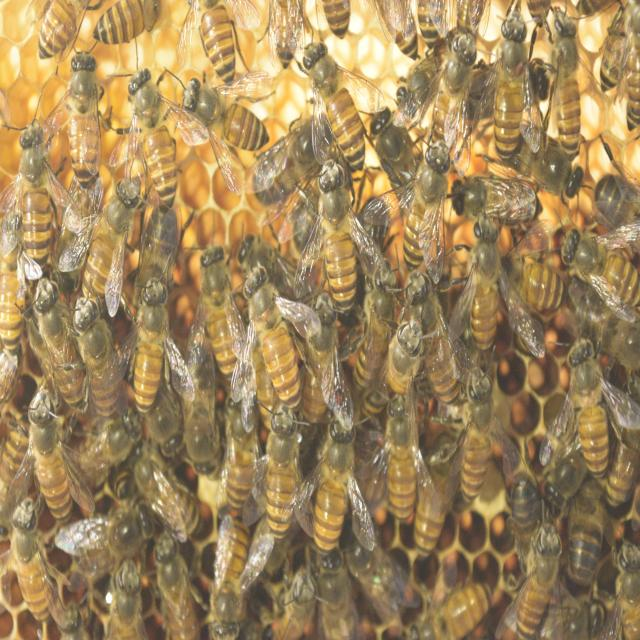honeybee: (0, 97, 60, 280), (119, 64, 189, 217), (493, 105, 587, 206), (362, 380, 430, 517), (302, 30, 369, 169), (304, 169, 366, 318), (400, 271, 464, 412), (112, 285, 179, 419), (188, 246, 250, 387), (236, 276, 301, 408), (130, 447, 212, 548), (176, 76, 268, 166), (258, 398, 316, 539), (427, 36, 480, 188), (566, 278, 640, 386), (292, 281, 348, 423), (304, 406, 362, 542), (366, 114, 432, 232), (456, 50, 542, 140), (83, 170, 132, 326), (203, 523, 268, 640), (62, 48, 112, 200), (232, 227, 298, 341), (176, 340, 231, 475), (122, 208, 184, 327), (217, 394, 271, 530), (233, 105, 325, 184), (39, 164, 92, 298), (407, 144, 458, 282), (455, 226, 509, 356), (546, 12, 594, 158), (83, 315, 140, 436), (347, 536, 418, 631), (25, 390, 71, 534), (7, 502, 55, 640), (566, 341, 618, 468), (446, 172, 554, 232), (36, 270, 82, 407), (58, 509, 150, 577), (492, 0, 531, 160), (152, 536, 212, 640), (518, 525, 571, 640), (180, 0, 258, 78), (413, 429, 458, 552), (396, 579, 486, 640), (564, 235, 640, 305), (310, 542, 364, 640), (564, 461, 608, 577), (461, 367, 495, 510), (595, 398, 640, 505), (79, 408, 139, 487), (503, 238, 571, 305), (382, 313, 428, 412), (350, 287, 390, 399), (506, 284, 558, 370), (384, 42, 456, 100), (280, 158, 324, 247), (140, 363, 186, 448), (19, 0, 82, 62), (506, 477, 543, 576), (95, 0, 164, 53), (558, 596, 636, 640), (104, 561, 147, 640), (591, 171, 640, 239), (271, 582, 328, 640), (0, 223, 23, 362), (371, 0, 426, 52), (489, 588, 538, 640), (616, 534, 640, 640), (0, 390, 27, 484), (604, 4, 626, 92), (261, 4, 294, 61), (627, 18, 640, 144), (453, 0, 490, 37), (313, 0, 354, 33), (422, 0, 445, 49)
